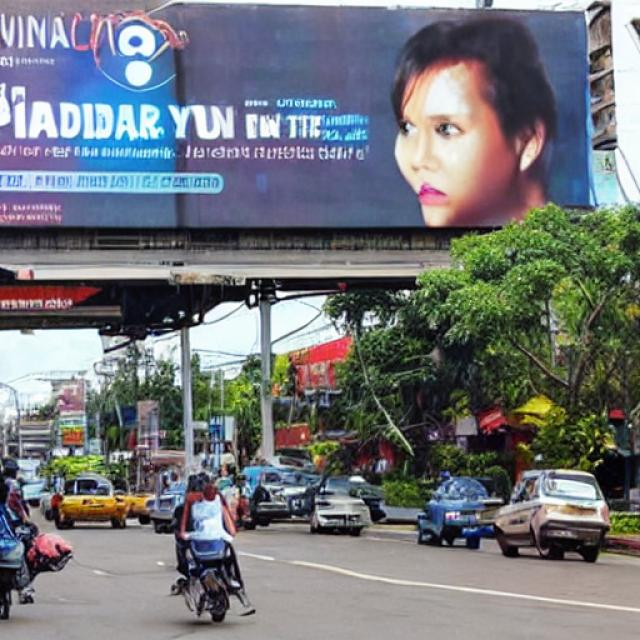Billboard: (0, 0, 595, 260)
